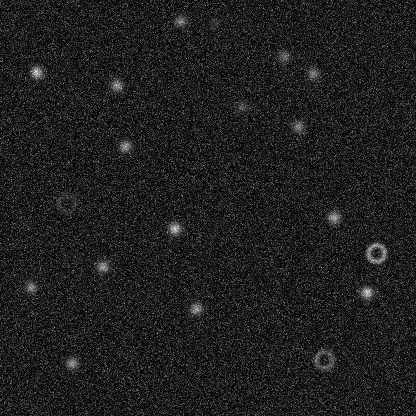Ring: (364, 241, 388, 265), (311, 347, 335, 371), (54, 191, 78, 215)
Spot: (358, 284, 374, 300), (22, 279, 38, 295), (290, 118, 306, 134), (305, 65, 321, 81), (94, 258, 110, 274), (172, 12, 188, 28), (188, 300, 204, 316), (28, 64, 44, 80), (166, 220, 182, 236), (63, 354, 79, 370), (117, 138, 133, 154), (325, 209, 341, 225), (206, 16, 222, 32), (108, 77, 124, 93), (234, 98, 250, 114), (275, 48, 291, 64)
